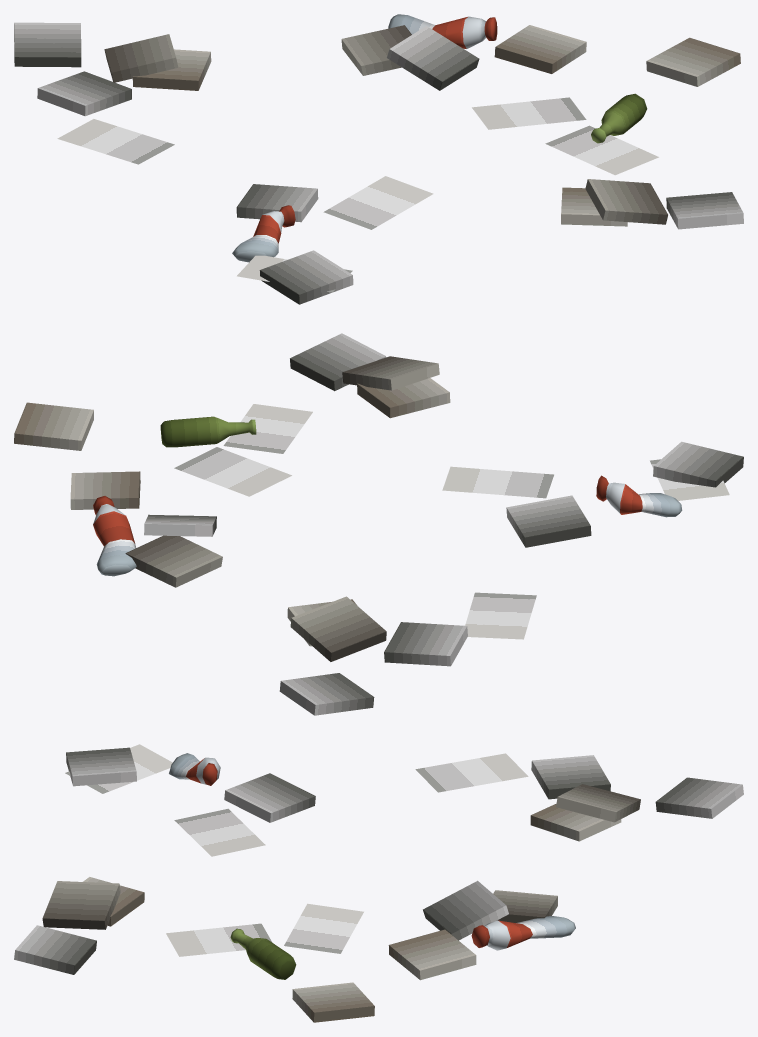
Rendered from DL_Obj_Level3_Rubble4.fbx.
3 renders of one model, top to bottom at view 1: azimuth 30°, elevation 25°; view 2: azimuth 150°, elevation 25°; view 3: azimuth 270°, elevation 25°, orthographic. The views are drawn at different scales.
Visible parts, largest first — view 1: Level3_Rubble4; view 2: Level3_Rubble4; view 3: Level3_Rubble4.
Part boxes in pixels (box(x1,y1,x2,y2)): Level3_Rubble4: box(14, 14, 743, 304); Level3_Rubble4: box(14, 333, 743, 715); Level3_Rubble4: box(14, 744, 743, 1022).
Bounding box in the file's own units: 200 × 12.13 × 221.
